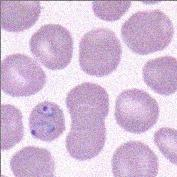Infected: (28, 101, 65, 141)
Uninfected: (123, 9, 175, 56), (66, 105, 106, 160), (78, 27, 121, 76), (114, 87, 159, 133), (30, 23, 72, 70), (0, 53, 45, 96), (67, 82, 110, 124), (111, 141, 159, 177), (10, 145, 56, 177), (141, 55, 177, 95), (0, 1, 40, 31), (0, 105, 24, 148), (154, 125, 177, 169)
